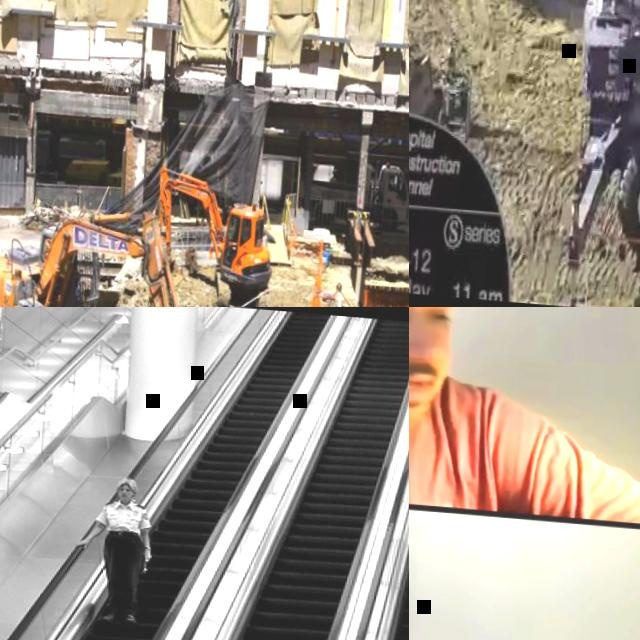NO-Hardhat: (117, 476, 137, 490)
NO-Mask: (409, 351, 446, 439), (117, 489, 132, 499)
NO-Safety Vest: (409, 351, 516, 507), (103, 500, 142, 533)
Person: (409, 307, 640, 522), (409, 482, 566, 640), (71, 473, 157, 624)
Safety Cone: (313, 238, 325, 290)
machinery: (561, 0, 640, 297), (0, 213, 226, 307), (147, 161, 279, 307), (296, 155, 409, 231), (409, 0, 443, 119)
